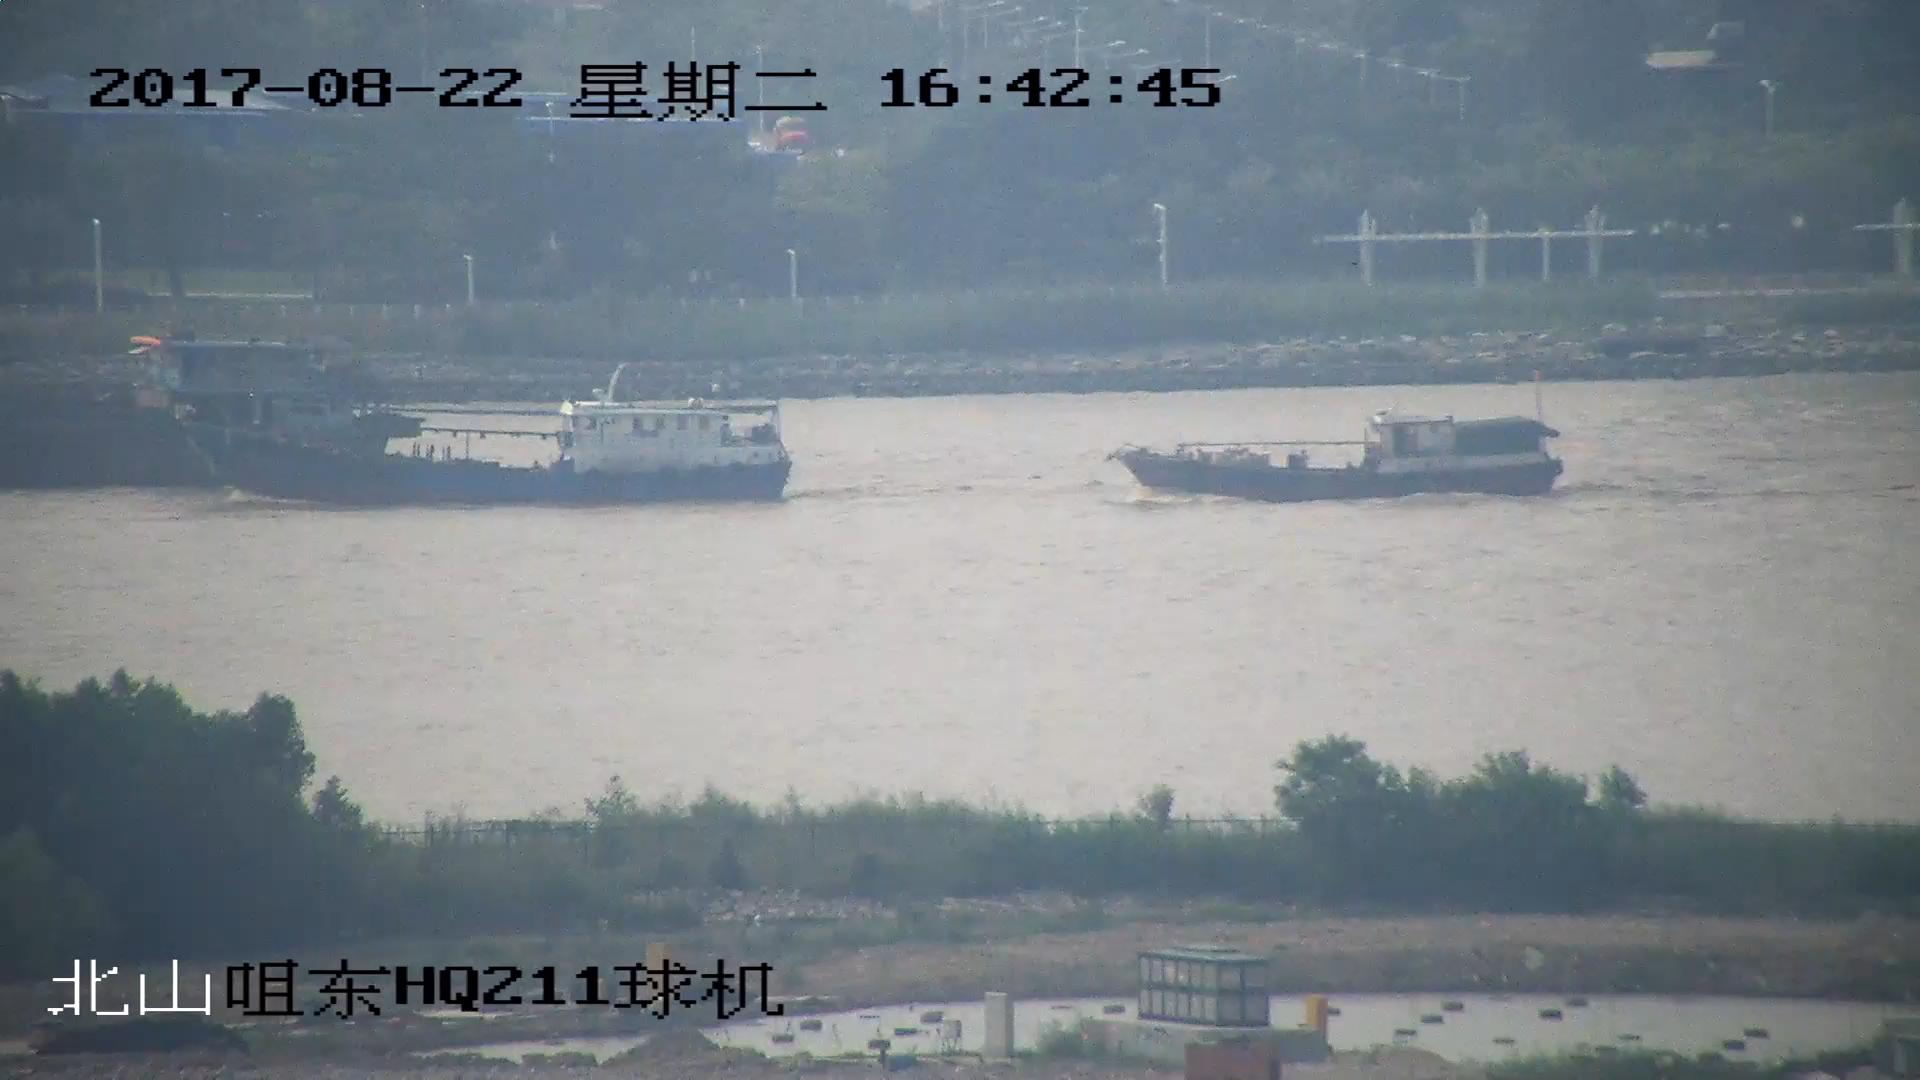bulk cargo carrier: (1, 340, 389, 482)
fishing boat: (172, 367, 789, 508), (1118, 412, 1561, 501)
